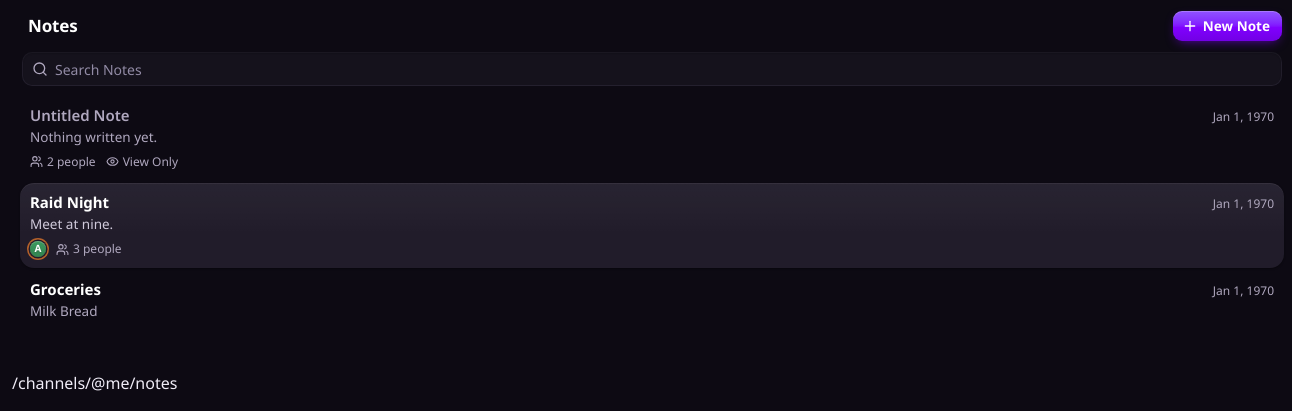
Test: the list of notes › opens a note, and marks the one open
The width and height of the screenshot is (1292, 411).
Click the button with test id "note-card" that starts with "Groceries". click: (66, 289)
box: [20,270,1284,332]
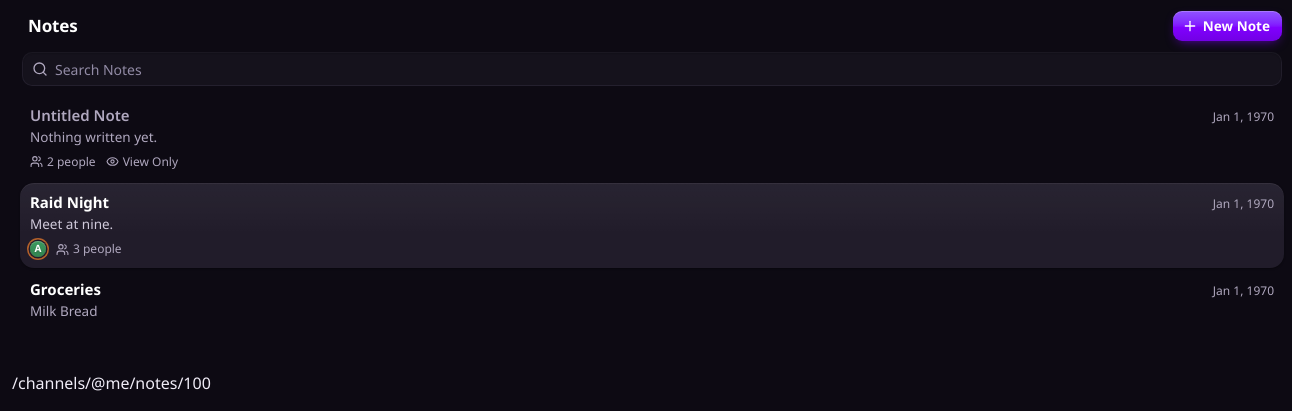
Expected: the text with test id "where" reads "/channels/@me/notes/100", [12,372,211,394]
